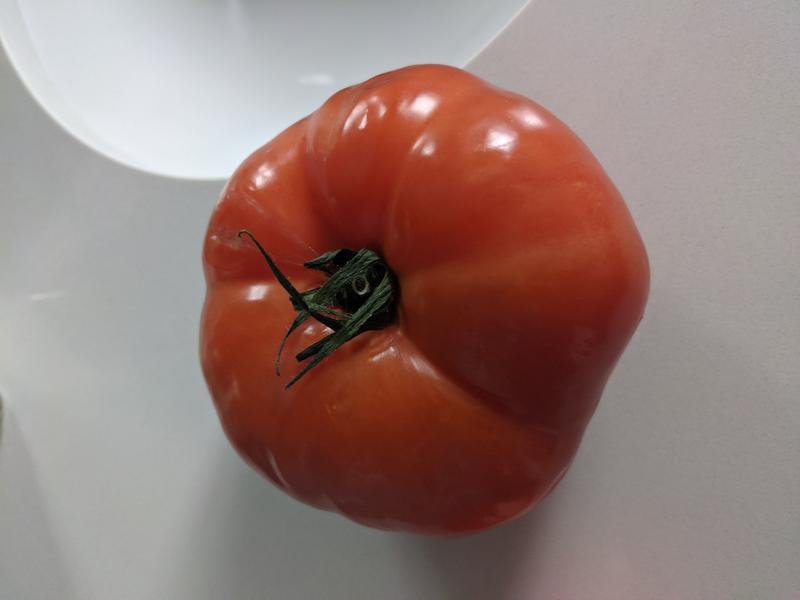tomato: (197, 63, 652, 538)
